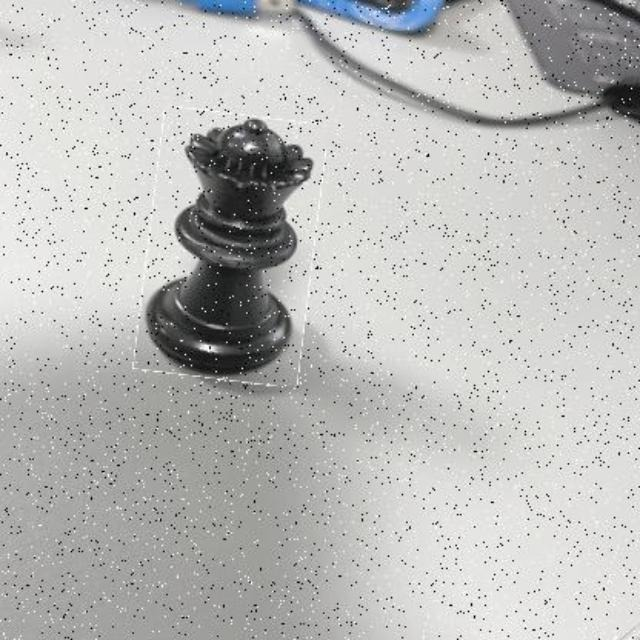black-queen: (140, 112, 320, 384)
